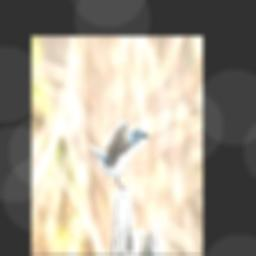Swallow: (80, 118, 151, 191)
